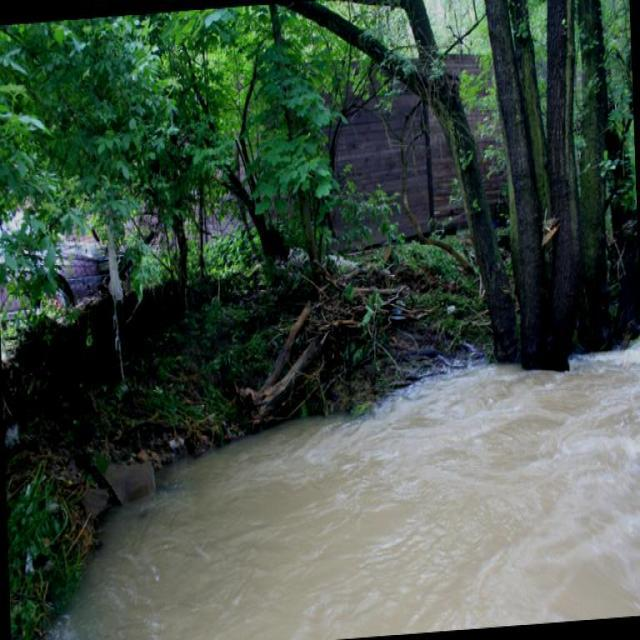flood: (3, 345, 639, 639)
